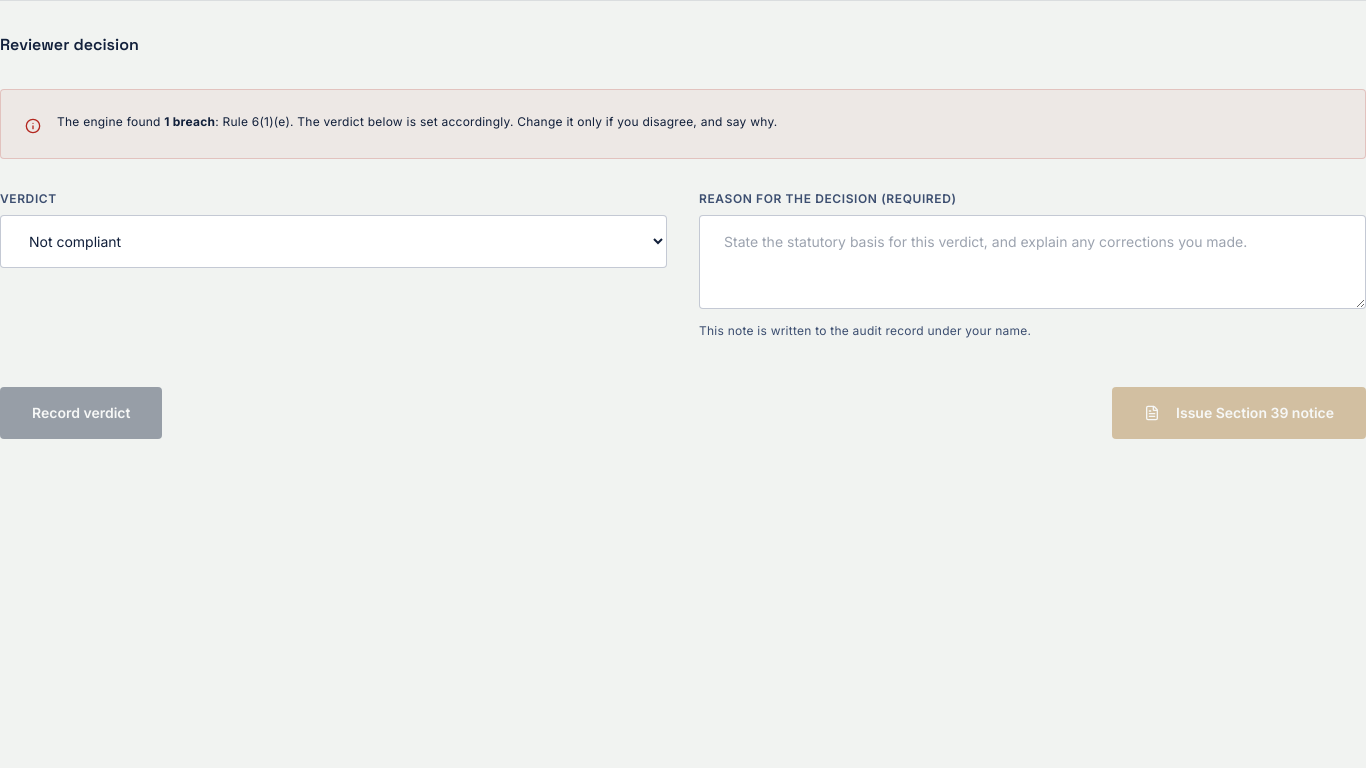
Test case: ReviewForm › warns when a reviewer clears a scan the engine found in breach
Select "Compliant with PCR 2011" in the dropdown labelled "Verdict" at coordinates (334, 242), box x1=0 y1=215 x2=667 y2=268
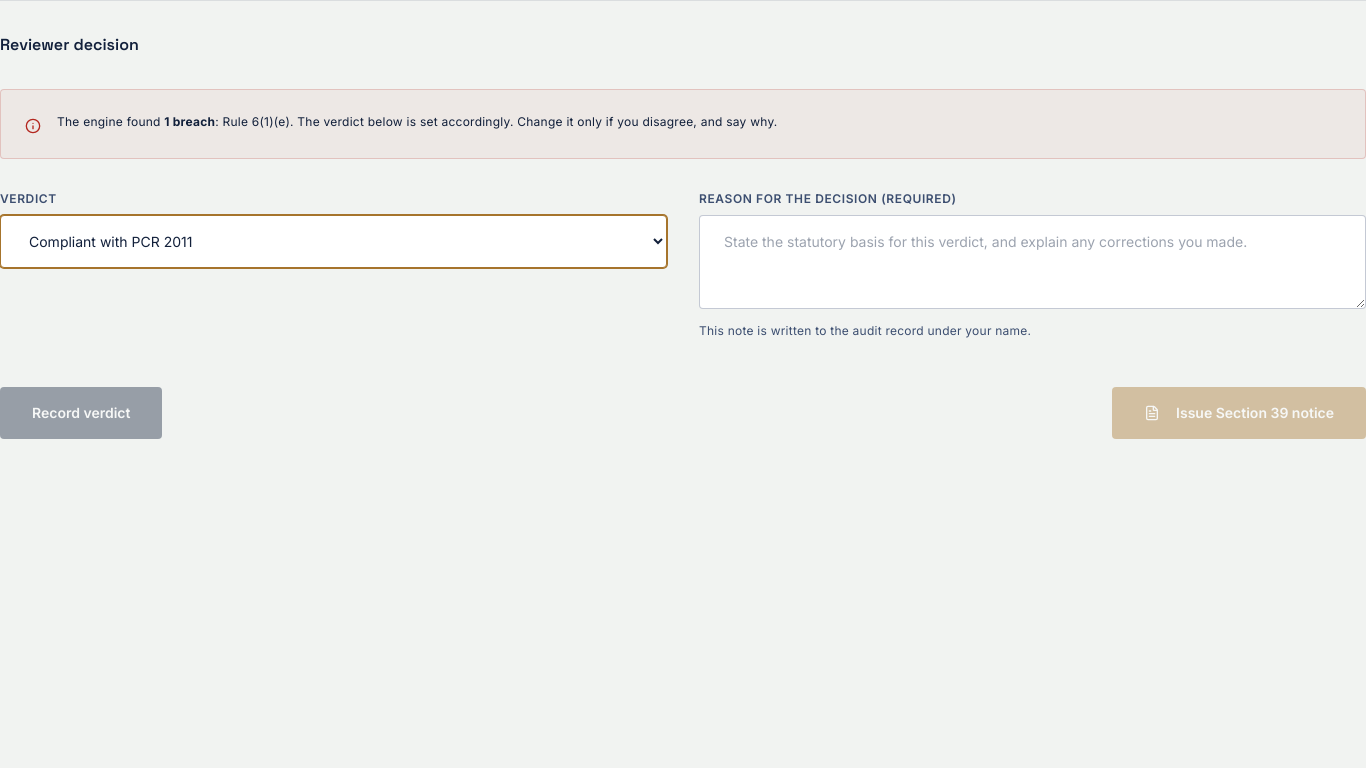
Type "Label reprinted on site." into the text box labelled "Reason for the decision (required)" at coordinates (1032, 262), box x1=699 y1=215 x2=1365 y2=309
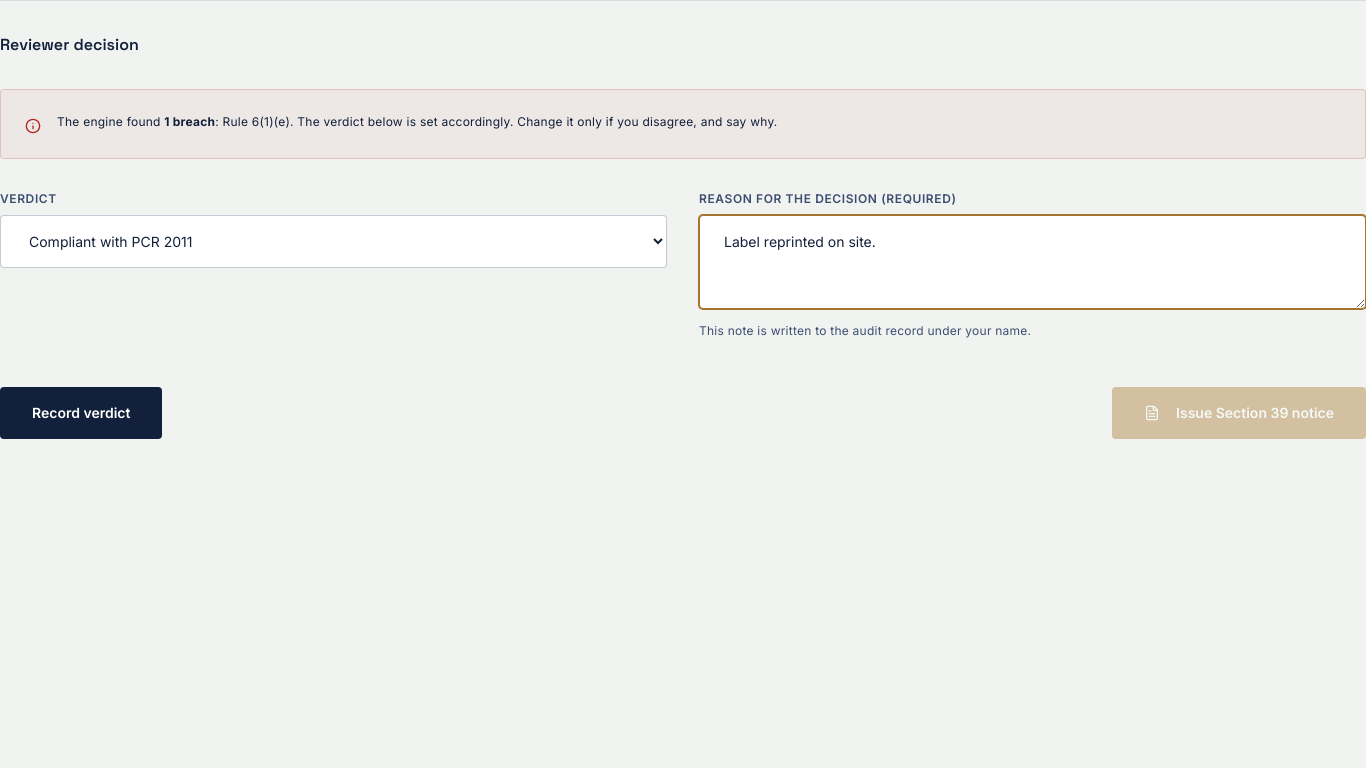
Click the button "Record verdict" at coordinates (81, 413), box x1=0 y1=387 x2=162 y2=439
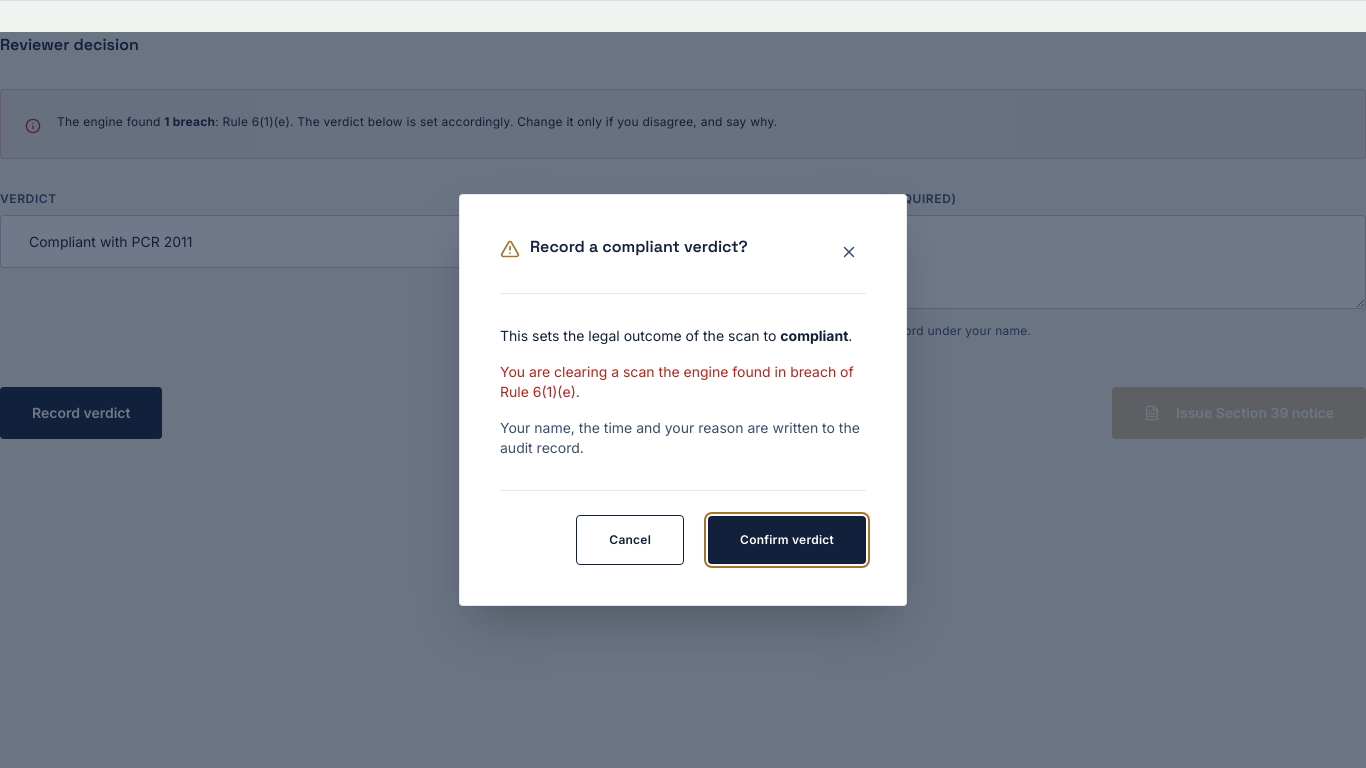
Now the text "You are clearing a scan" is shown, box x1=500 y1=363 x2=854 y2=380
